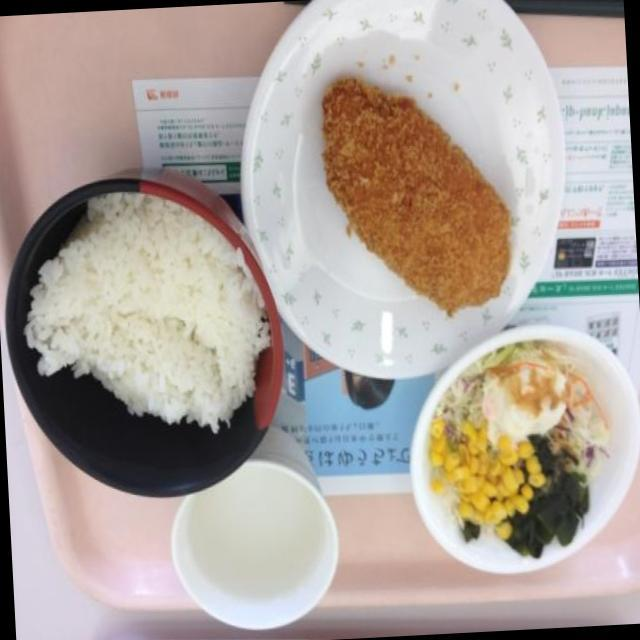Rice: (45, 202, 266, 450)
